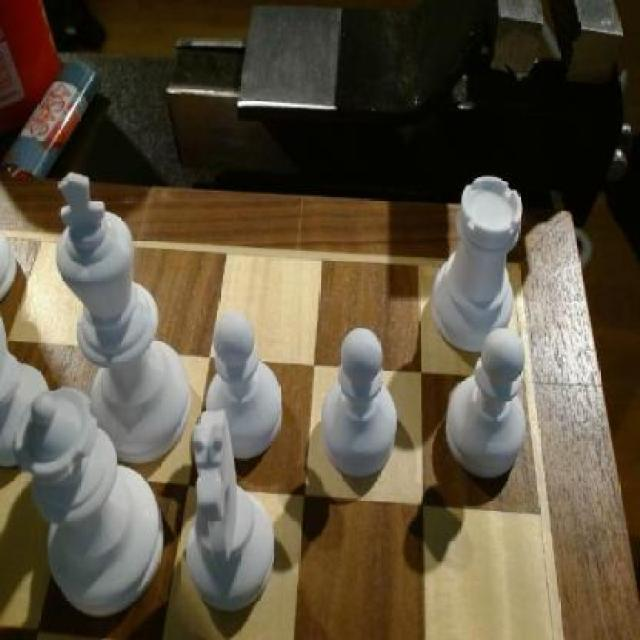white-bishop: (55, 174, 193, 470)
white-king: (181, 410, 277, 618)
white-knight: (448, 334, 529, 481), (322, 328, 398, 479), (206, 317, 282, 461)
white-pawn: (14, 386, 164, 626)
white-queen: (434, 175, 526, 360)
